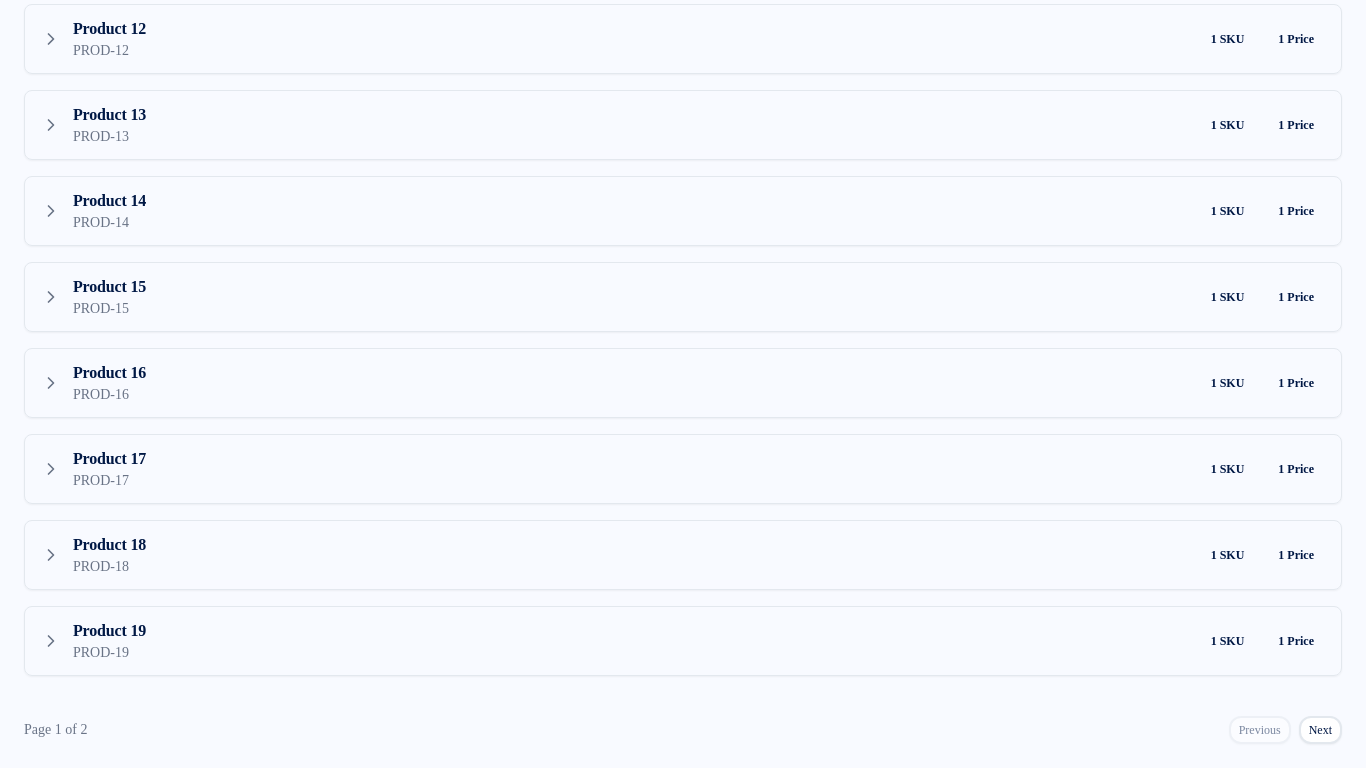
Test case: ProjectCatalog › should handle pagination
(page scrolled)
Expected: the heading "Product 19" is shown, left=73, top=619, right=146, bottom=643
Expected: the text "Product 20" is not shown
# Navigate to next page
Click the button "Next".
click(1320, 730)  # box left=1299, top=716, right=1342, bottom=744
(page scrolled)
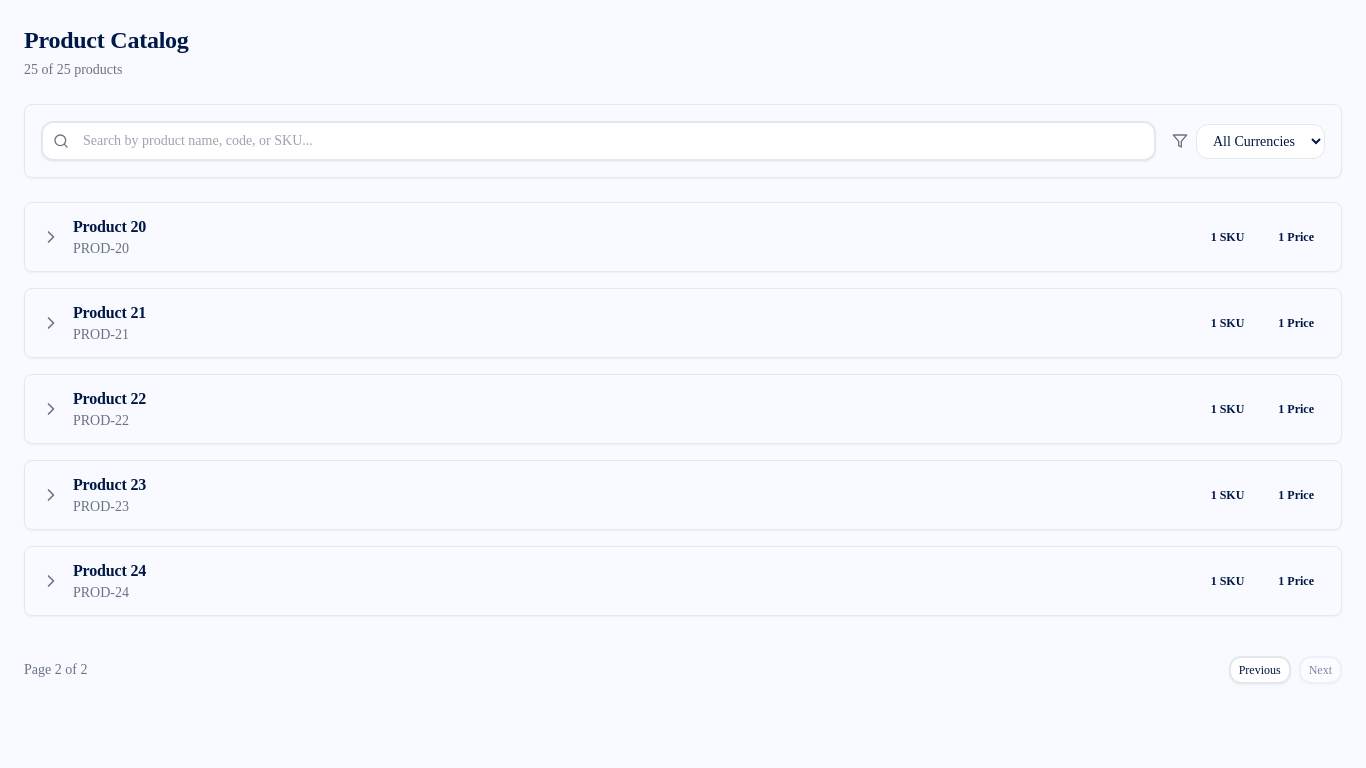
Result: the heading "Product 20" is shown at left=73, top=215, right=146, bottom=239
